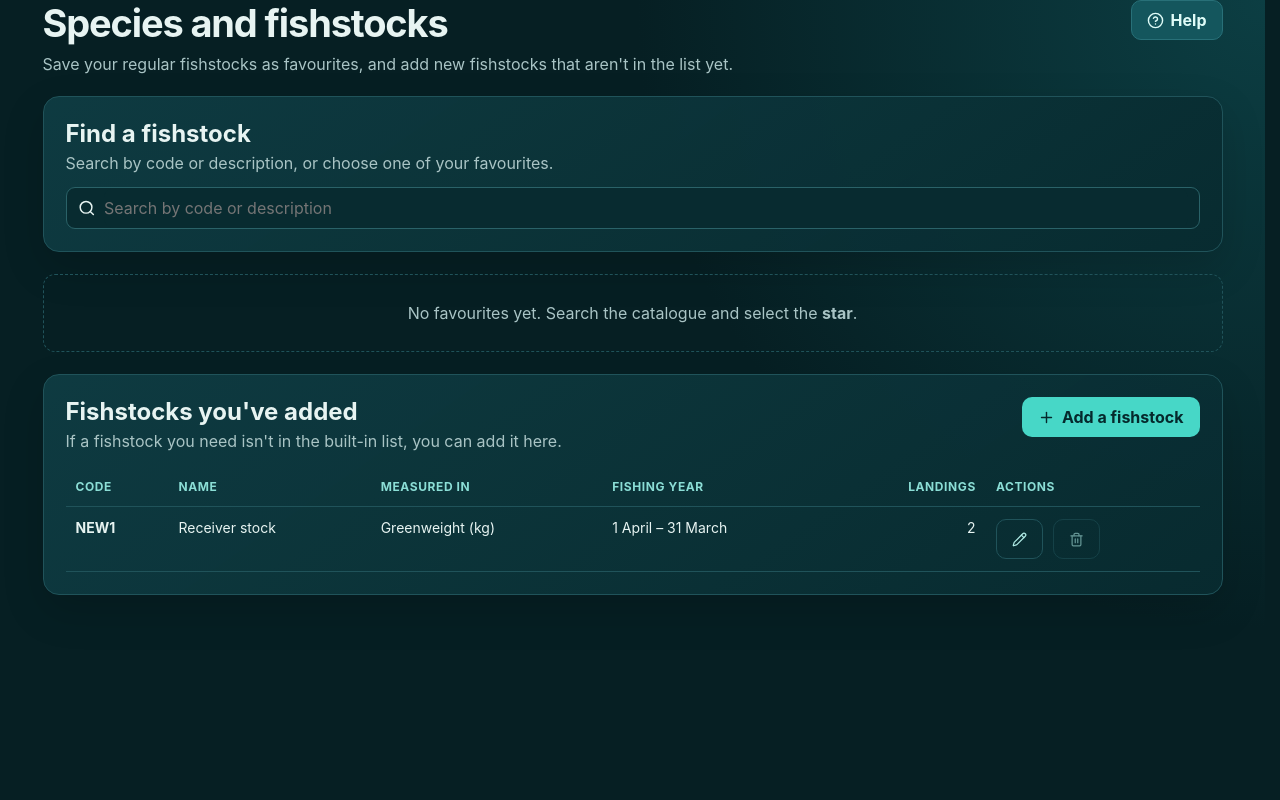
Test: Species › locks the code and unit of a stock that landings use, and cannot remove it
Expected: the button named "Remove NEW1" is disabled, [1053,519,1100,559]
Step 1. Click the button named "Edit NEW1" → (1019, 539), box [996,519,1043,559]
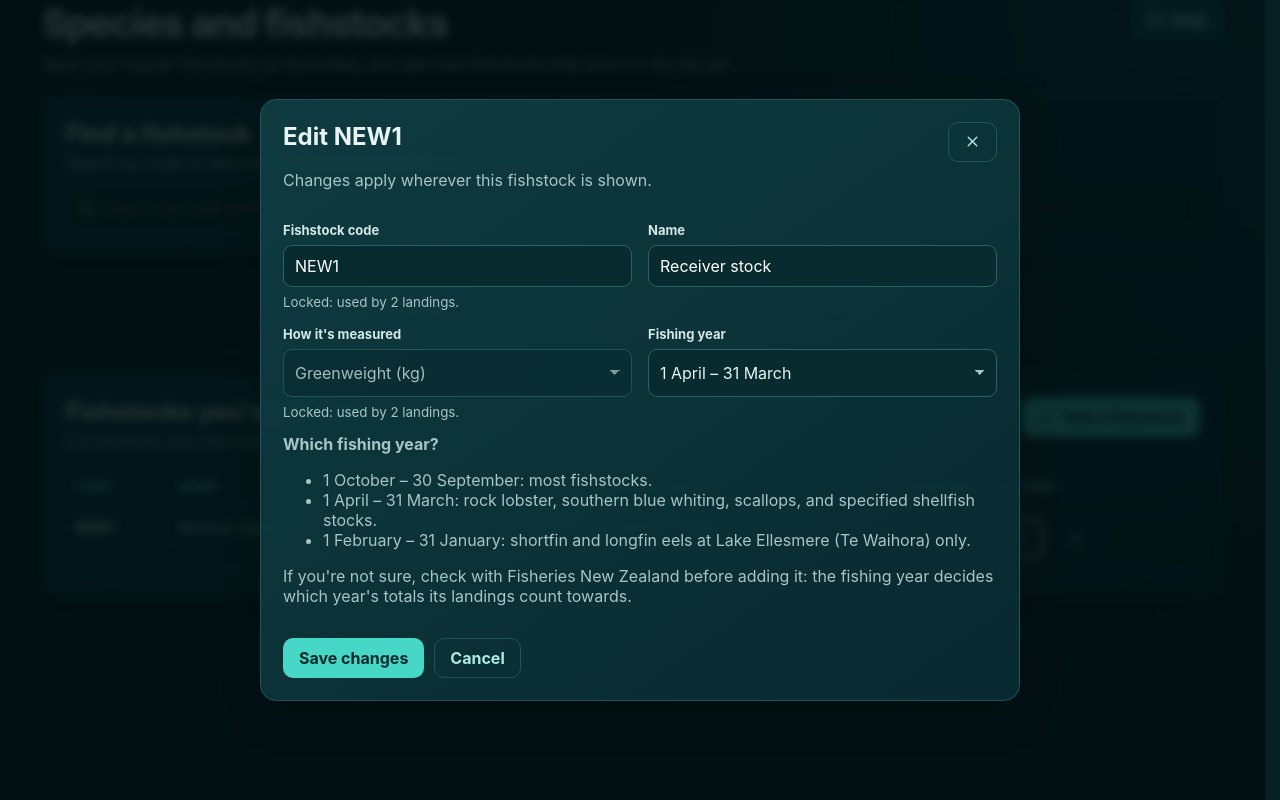
Expected: the field labelled "Fishstock code" is disabled, [283,246,632,288]
Expected: the dropdown labelled "How it's measured" is disabled, [283,350,632,398]
Expected: the field labelled "Name" is enabled, [648,246,997,288]
